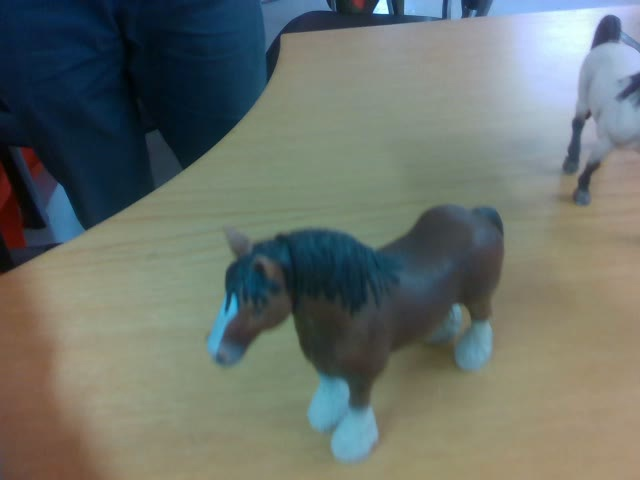toy: (207, 206, 506, 462)
